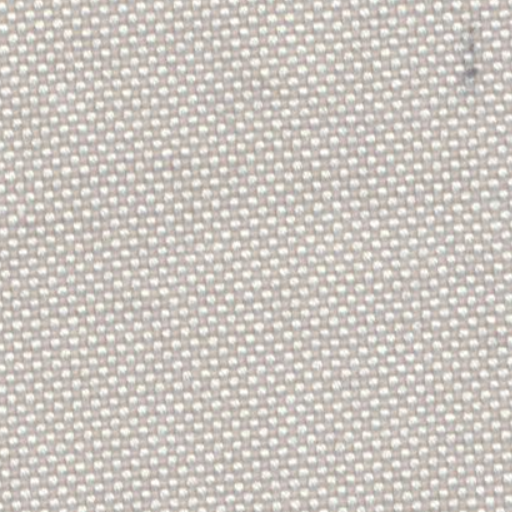WuZi: (442, 11, 492, 86)
